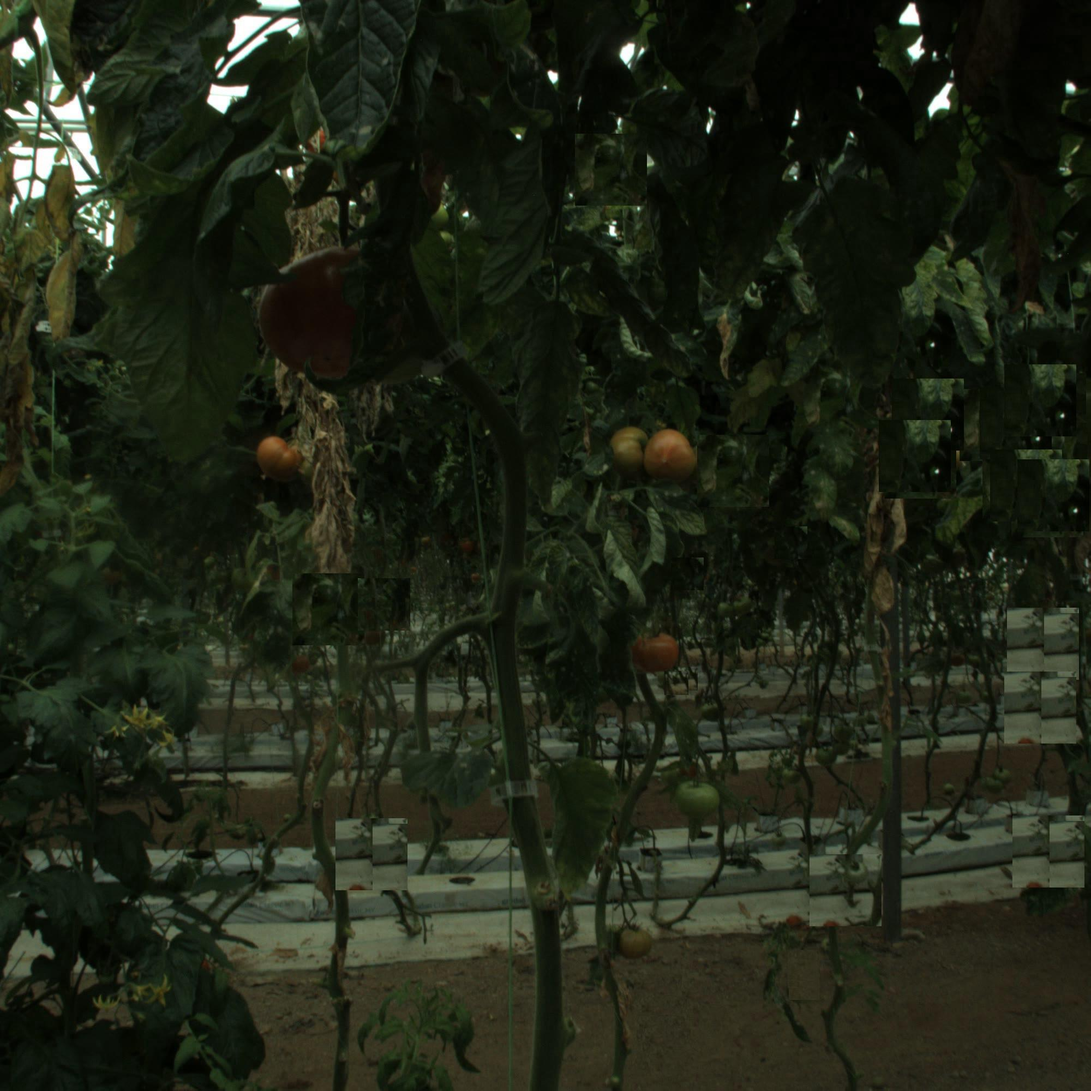['unripe', 'semi-ripe', 'fully-ripe']: (675, 775, 720, 819)
